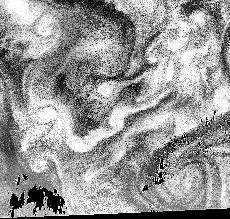CE: (146, 150, 220, 211)
